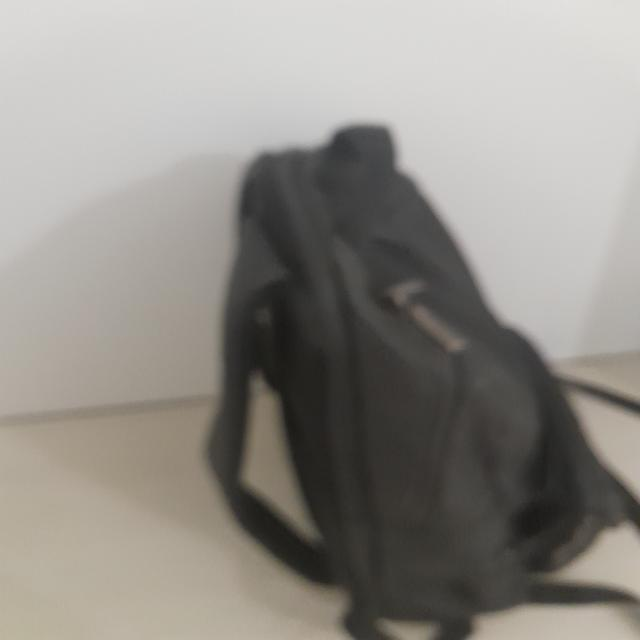backpack: (203, 125, 640, 640)
